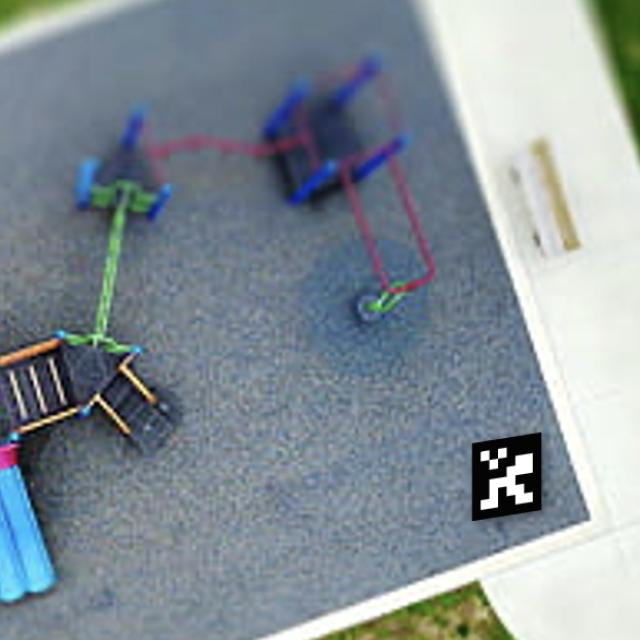marker: (462, 426, 552, 523)
